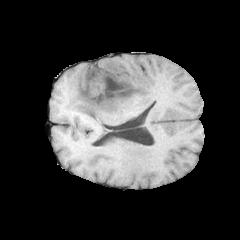glioma: (63, 59, 154, 131)
